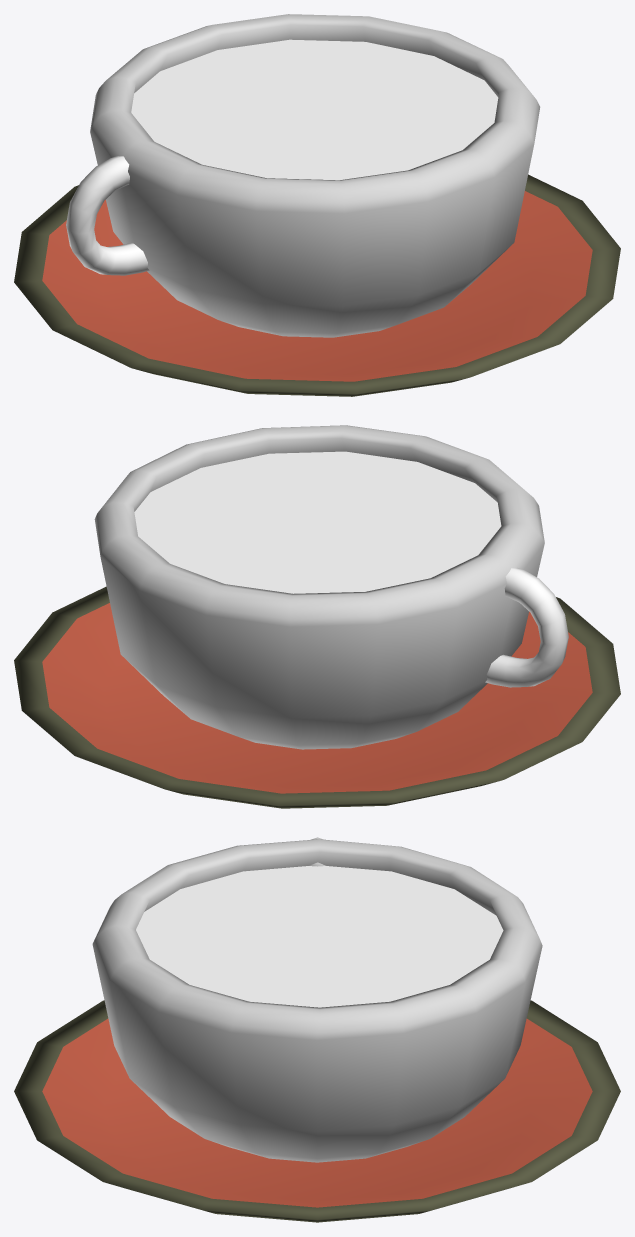
Rendered from Coffee - Latte.fbx.
The picture shows the model from 3 angles, top to bottom: view 1: azimuth 30°, elevation 25°; view 2: azimuth 150°, elevation 25°; view 3: azimuth 270°, elevation 25°; orthographic projection.
Parts seen in each view (by area): view 1: Circle, Circle_003, Circle_002, Circle_001; view 2: Circle, Circle_003, Circle_002, Circle_001; view 3: Circle, Circle_003, Circle_002.
Boxes of the visible parts, x1=… form: Circle: x1=90, y1=14, x2=540, y2=337; Circle_003: x1=14, y1=174, x2=620, y2=396; Circle_002: x1=131, y1=39, x2=498, y2=180; Circle_001: x1=66, y1=156, x2=149, y2=275; Circle: x1=94, y1=425, x2=544, y2=749; Circle_003: x1=14, y1=586, x2=620, y2=808; Circle_002: x1=134, y1=451, x2=501, y2=593; Circle_001: x1=485, y1=568, x2=568, y2=687; Circle: x1=92, y1=839, x2=542, y2=1162; Circle_003: x1=14, y1=1000, x2=620, y2=1222; Circle_002: x1=136, y1=866, x2=503, y2=1007.
Size of the model in its own units: 39.15 by 13.98 by 39.15.
